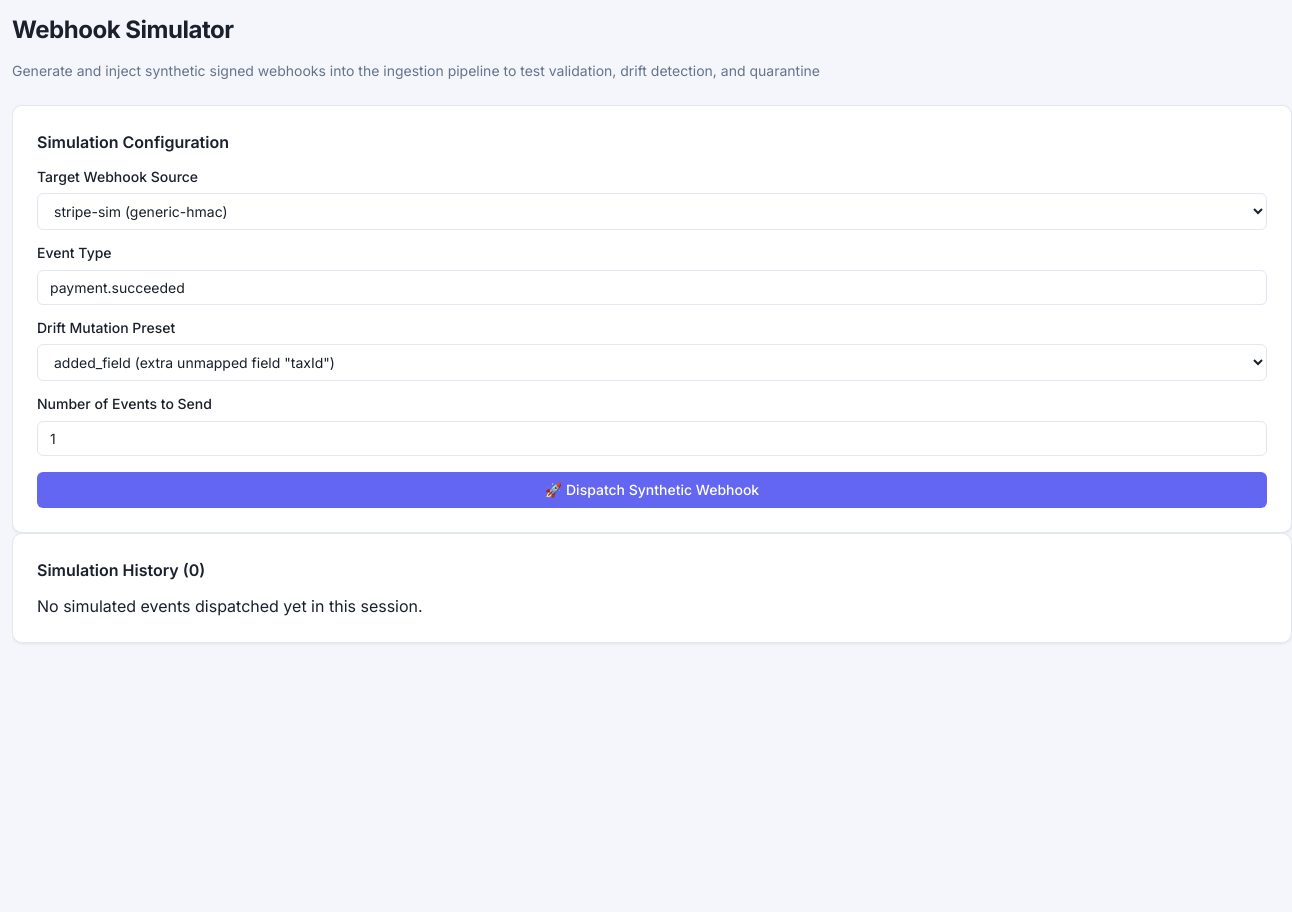
Test: Dashboard Auth & UI Components (D43, D46) › Simulator page (D41, D46) › dispatches synthetic webhooks with drift presets
The image size is (1292, 912).
Click the button "🚀 Dispatch Synthetic Webhook" at point(652, 490), box x1=37 y1=472 x2=1267 y2=508
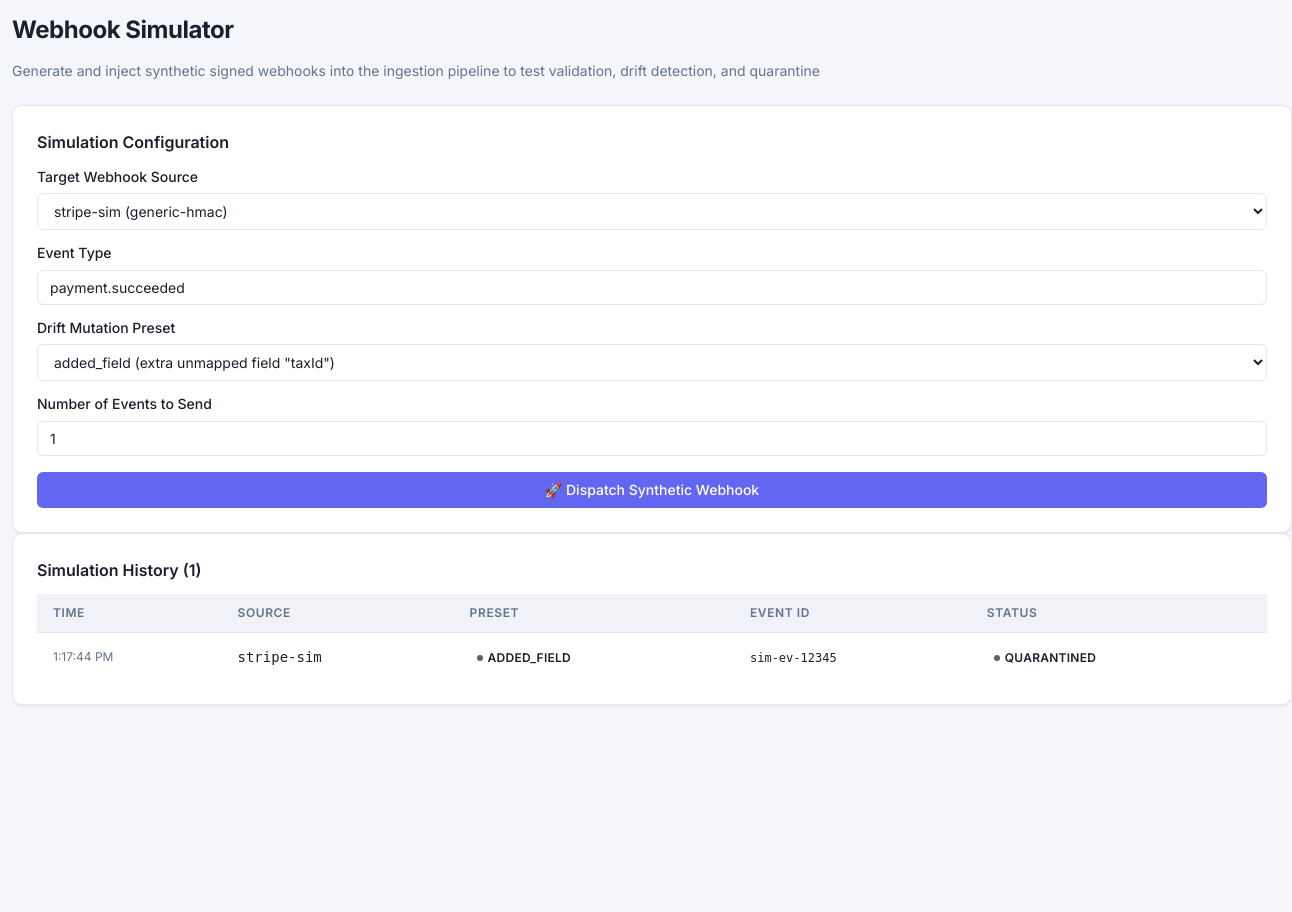
Check: the text "sim-ev-12345" is shown, box x1=750 y1=651 x2=837 y2=665
